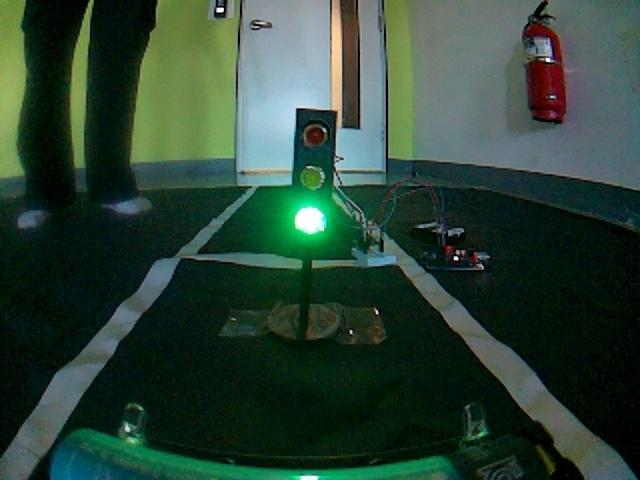go: (23, 361, 625, 480)
green_light: (212, 104, 405, 346)
